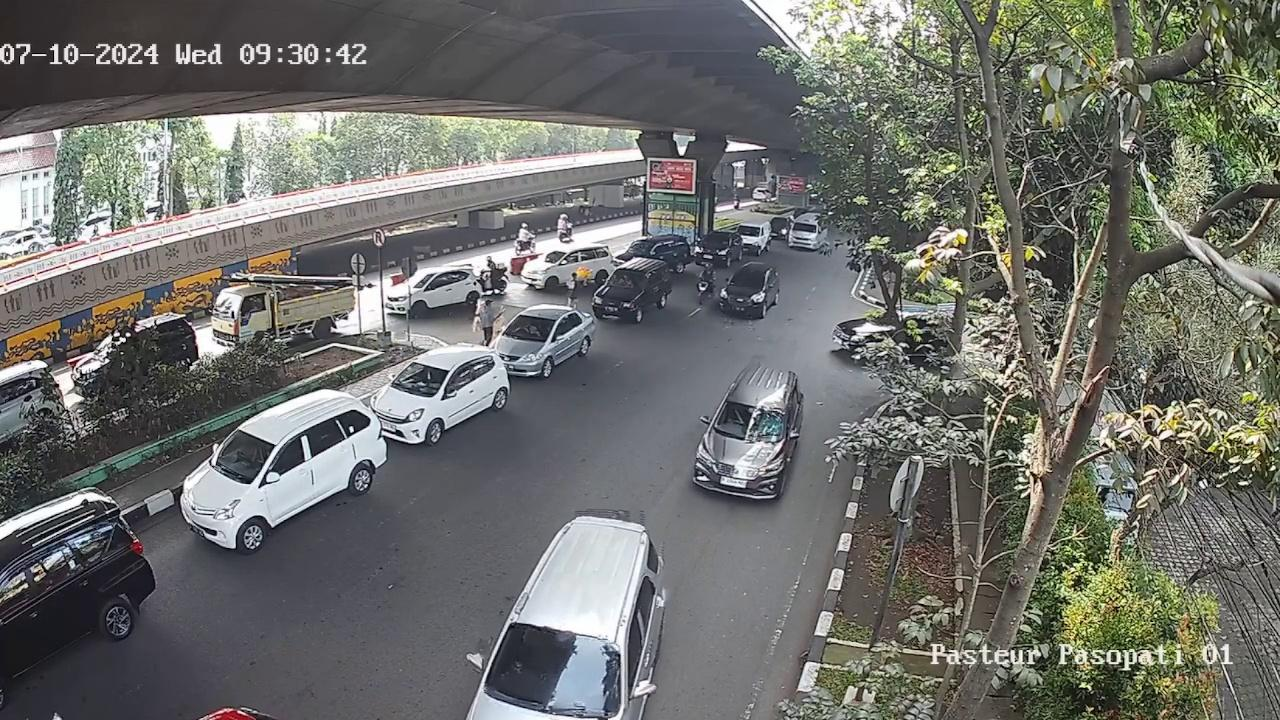windshield: (483, 626, 629, 715), (209, 425, 277, 472), (719, 406, 785, 437), (500, 317, 562, 345), (396, 365, 448, 393)
